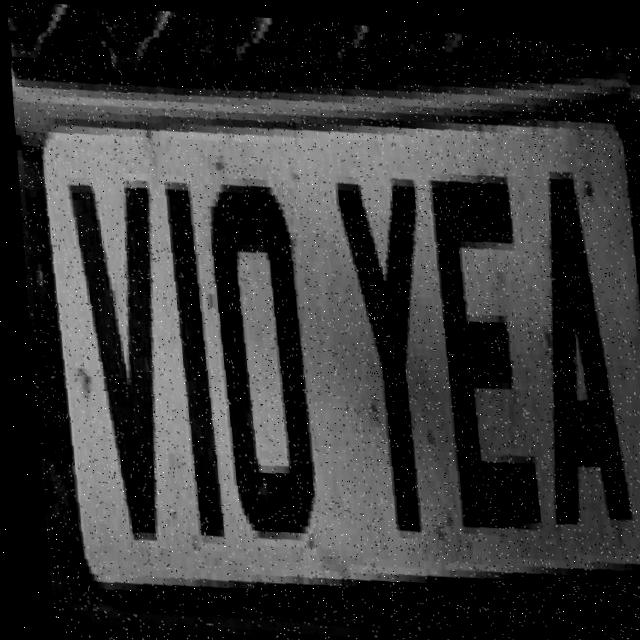LicensePlate: (2, 15, 640, 640)
